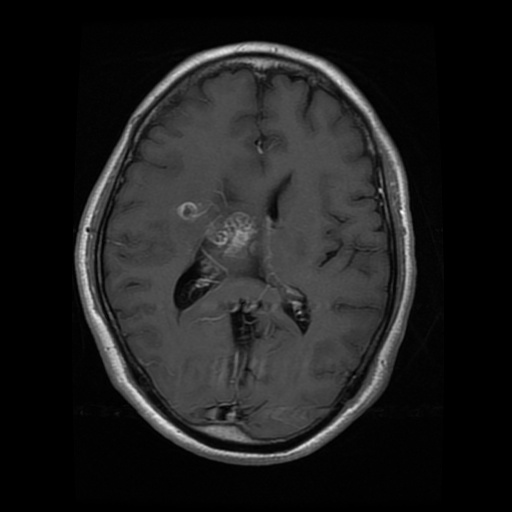glioma: (173, 180, 263, 265)
